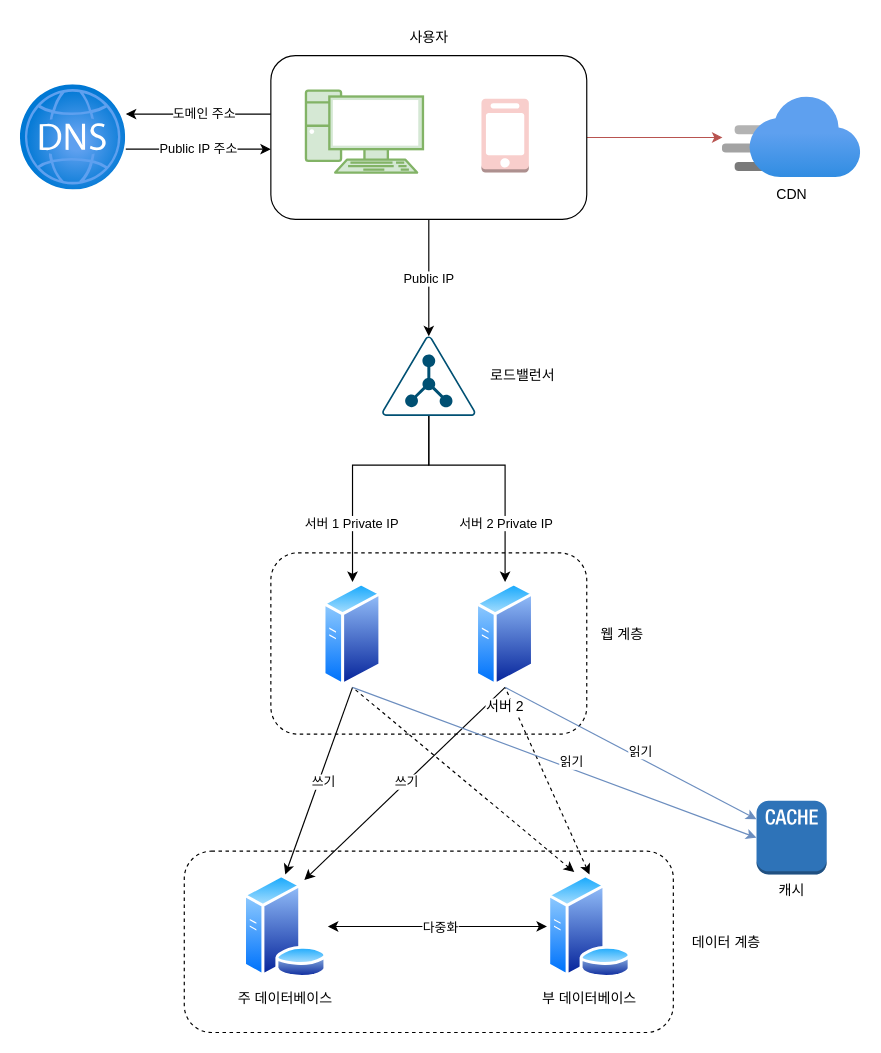
Image size: 881x1053. Some labels were removed from this diagram. The shapes that lost their labels are listed below. From the top down, each one's centre as x and y in pixels, then its label:
[364,131]: 웹 브라우저
[504,135]: 모바일 앱
[351,634]: 서버 1
